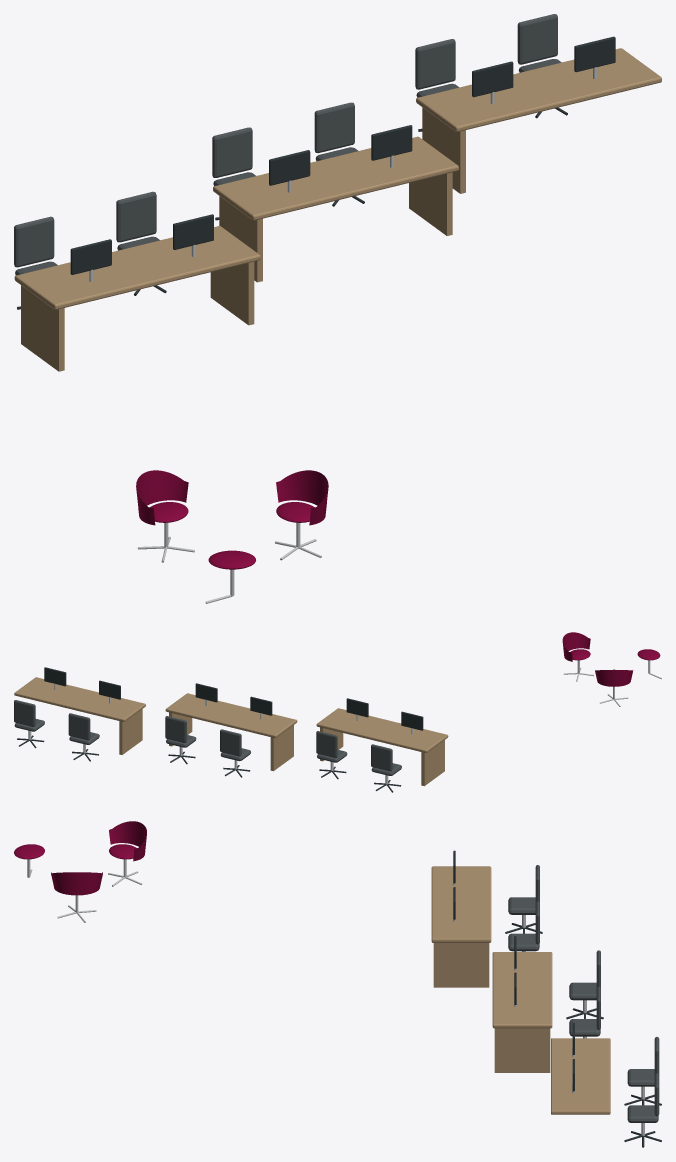
Rendered from SM_L5_Furniture_Solid_d96b396a89_0.fbx.
3 renders of one model, top to bottom at view 1: azimuth 30°, elevation 25°; view 2: azimuth 150°, elevation 25°; view 3: azimuth 270°, elevation 25°, orthographic. The views are drawn at different scales.
Parts seen in each view (by area): view 1: SM_L5_Furniture_Solid_d96b396a89_0; view 2: SM_L5_Furniture_Solid_d96b396a89_0; view 3: SM_L5_Furniture_Solid_d96b396a89_0.
Part boxes in pixels (bbox=[...]): SM_L5_Furniture_Solid_d96b396a89_0: bbox=[14, 14, 661, 603]; SM_L5_Furniture_Solid_d96b396a89_0: bbox=[14, 632, 661, 792]; SM_L5_Furniture_Solid_d96b396a89_0: bbox=[14, 821, 661, 1147].
Size of the model in its own units: 9.92 by 9.34 by 1.23.
